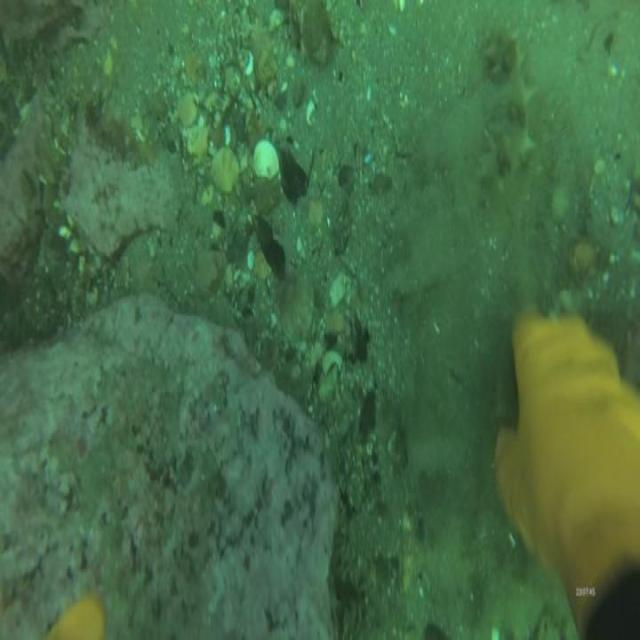holothurian: (483, 27, 534, 221)
